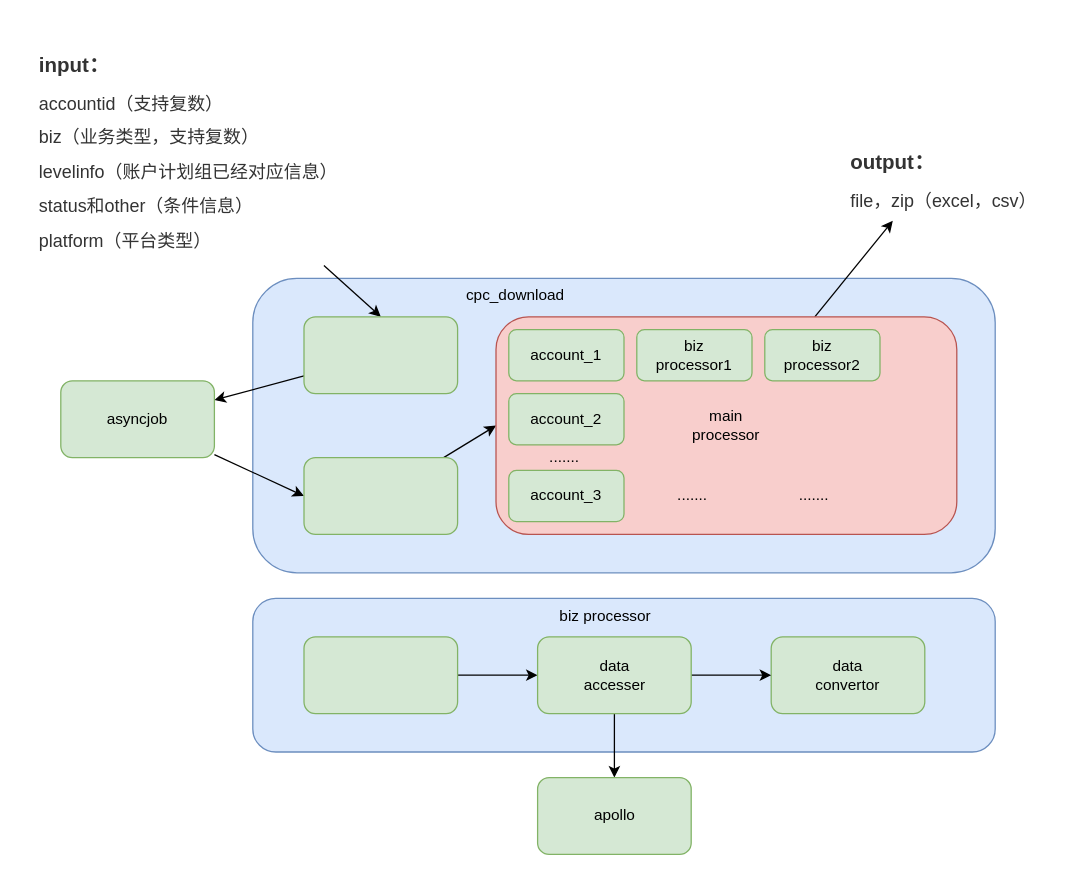
Image size: 1068x877. Some labels were removed from this diagram. Here are the shapes that lost their labels. From the top down, the centre of each, then its label:
At [380,355]: "task submiter".
At [380,495]: "task handler".
At [380,675]: "file generator".
